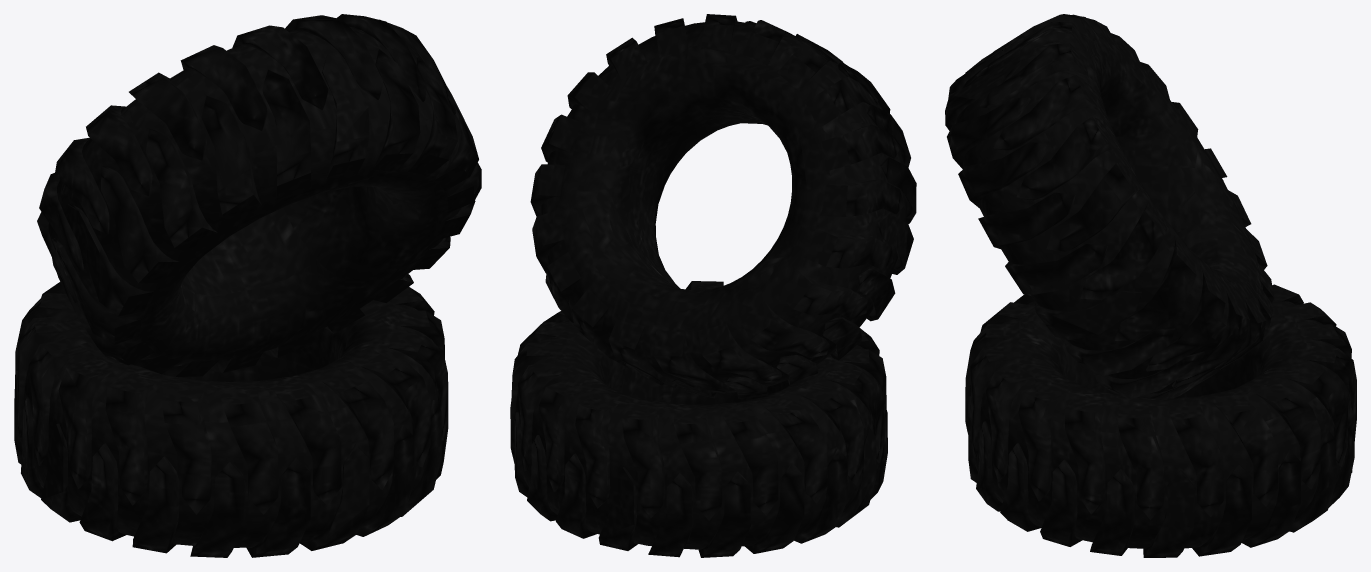
Rendered from tire.glb.
3 views of the same model, side by side, from view 1: azimuth 30°, elevation 25°; view 2: azimuth 150°, elevation 25°; view 3: azimuth 270°, elevation 25° (orthographic). The views are drawn at different scales.
Parts seen in each view (by area): view 1: discovery-tire; view 2: discovery-tire; view 3: discovery-tire.
Boxes of the visible parts, box(x1,y1,x2,y2) form: discovery-tire: box(14, 14, 481, 557); discovery-tire: box(510, 14, 916, 557); discovery-tire: box(945, 14, 1356, 557).
Bounding box in the file's own units: 0.7512 × 0.943 × 0.7836.
Materials: 1 (1 with a texture image).
